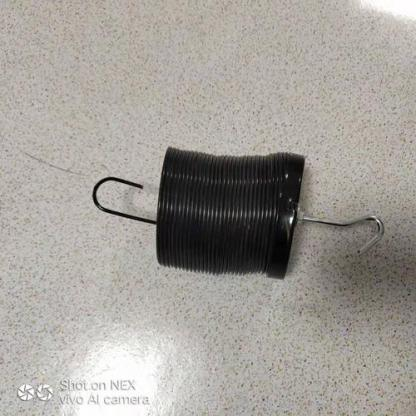FOD: (88, 148, 381, 284)
